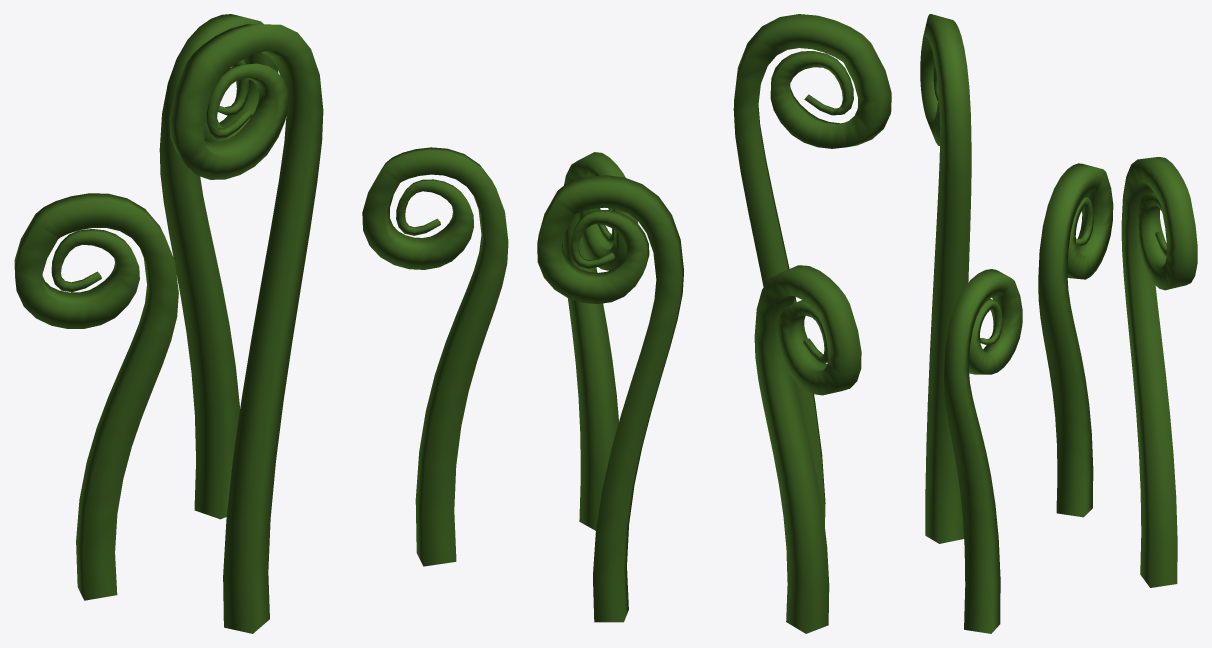
File: Roots.glb
The picture shows the model from 3 angles, left to right: view 1: azimuth 30°, elevation 25°; view 2: azimuth 150°, elevation 25°; view 3: azimuth 270°, elevation 25°; orthographic projection. The views are drawn at different scales.
Parts seen in each view (by area): view 1: Plant_3; view 2: Plant_3; view 3: Plant_3.
Part boxes in pixels (box(x1,y1,x2,y2)): Plant_3: box(14, 14, 508, 633); Plant_3: box(537, 14, 891, 633); Plant_3: box(920, 14, 1197, 633).
Bounding box in the file's own units: 2.12 × 2.98 × 1.44.
